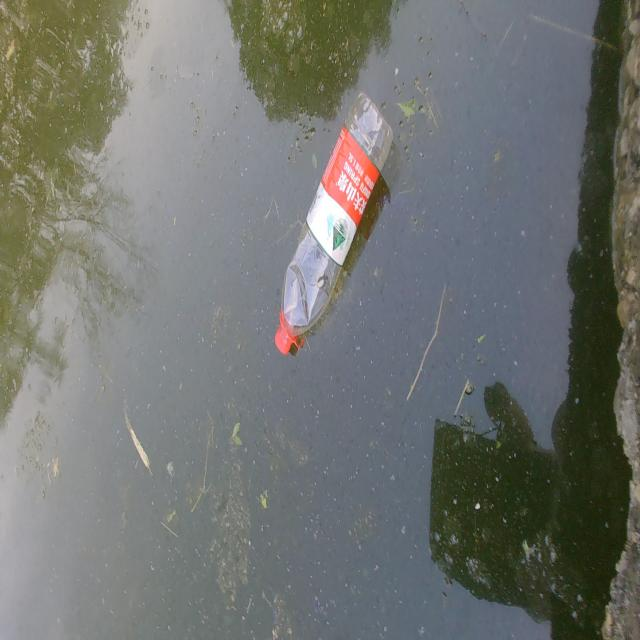Bottle: (269, 86, 395, 358)
